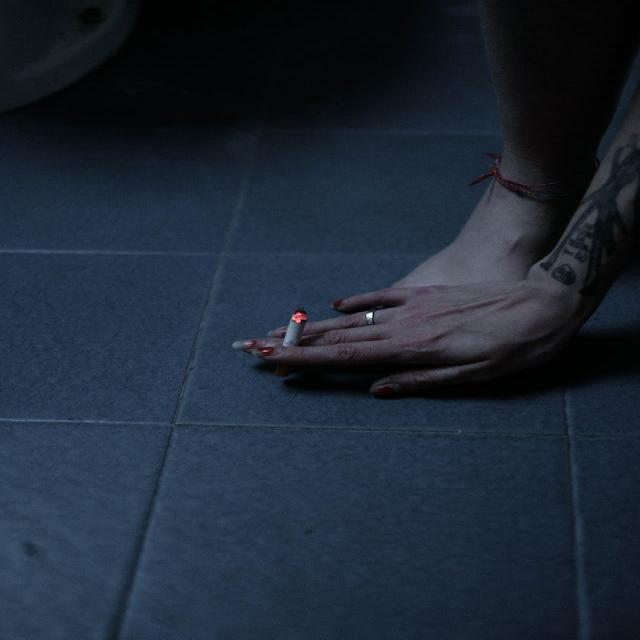rokok: (281, 309, 313, 351)
